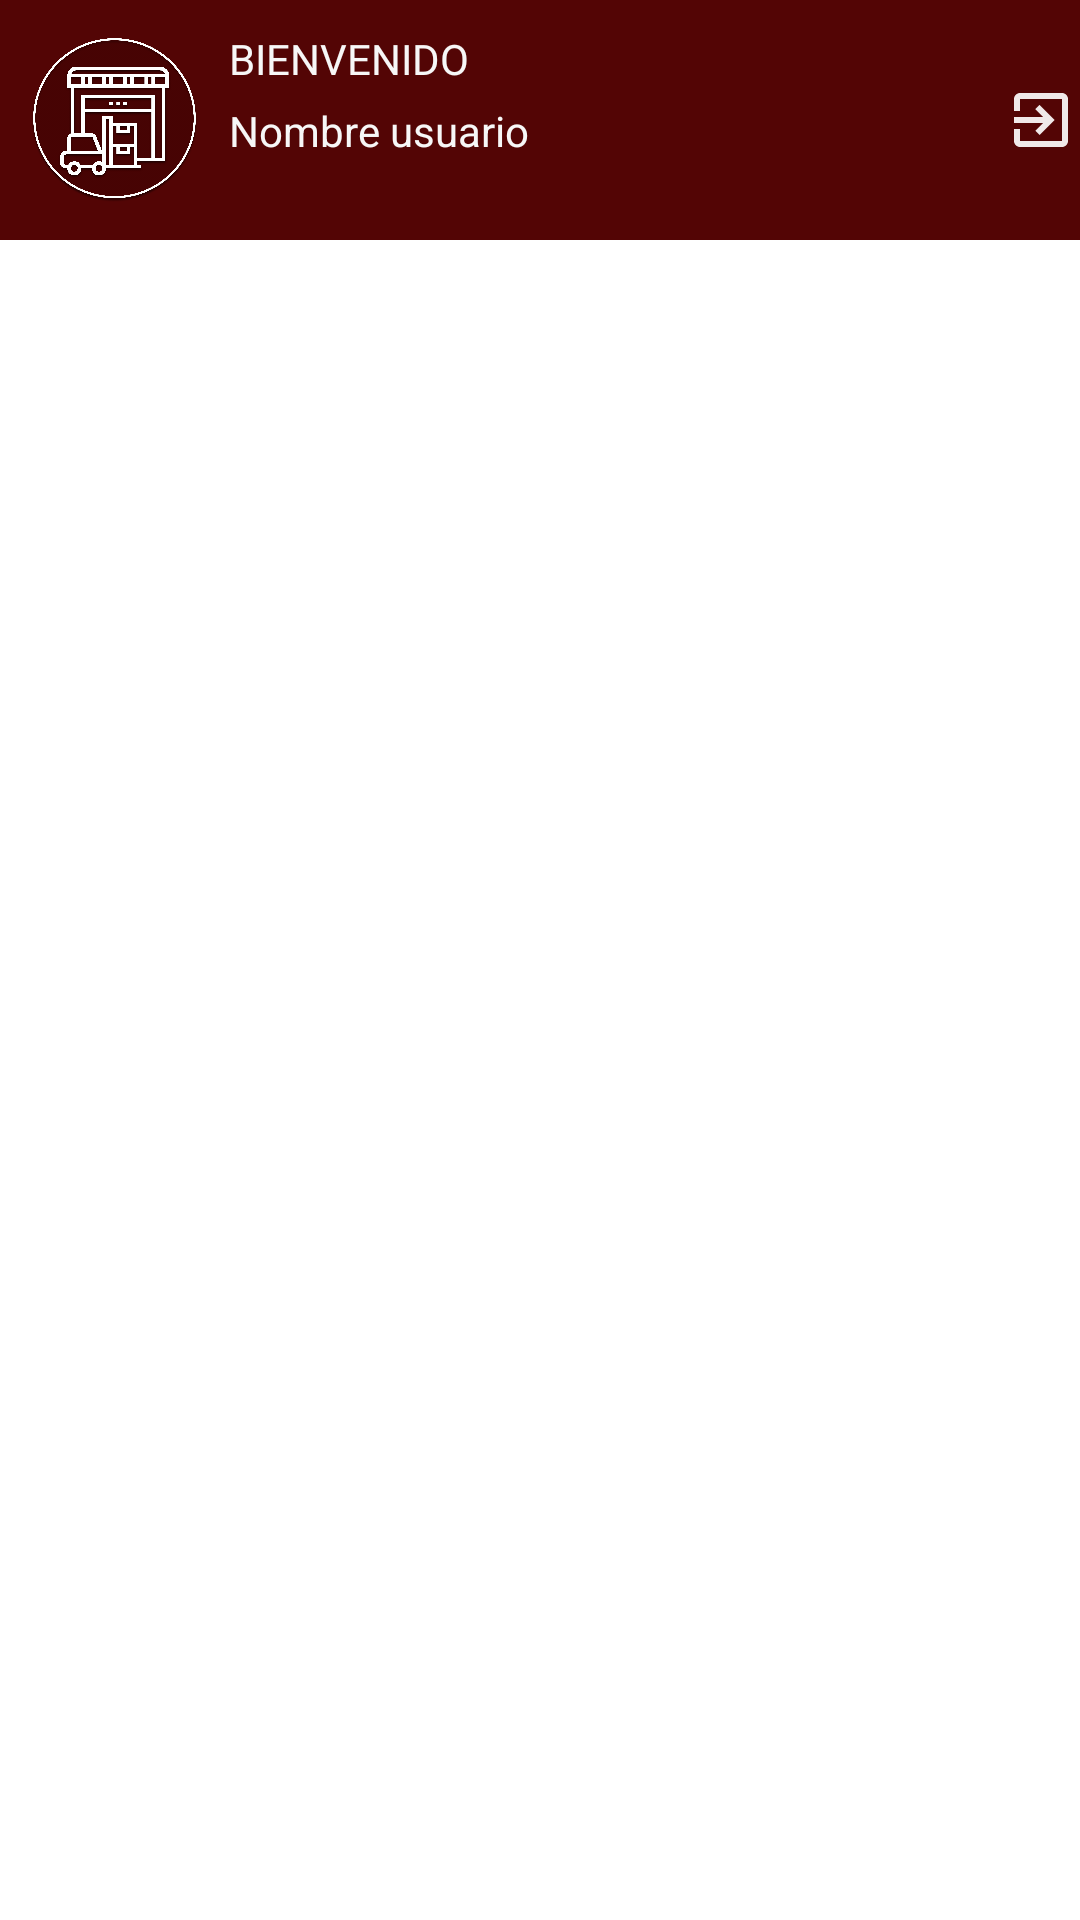

Where icons sit on this 1080px×1920px app screen, as (x1, y1, x2, y2):
almacen: (32, 38, 197, 201)
exit to app: (1014, 93, 1068, 147)
